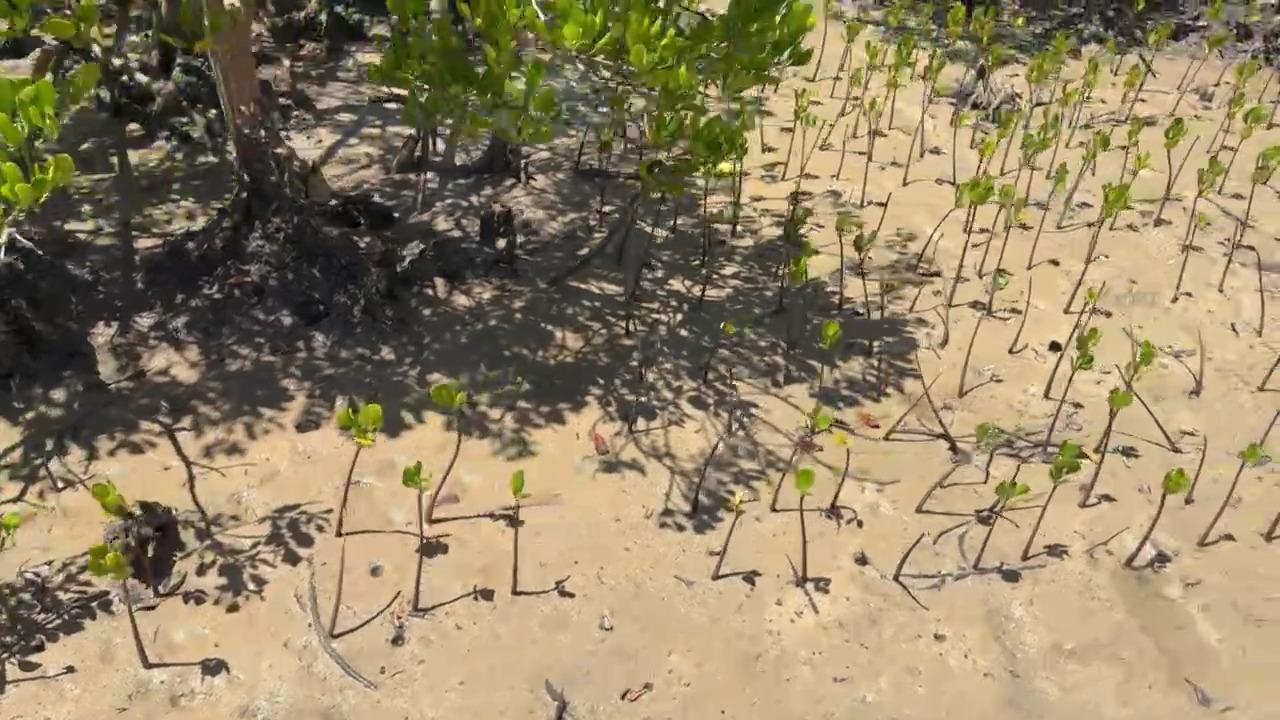Tree: (1065, 181, 1133, 313), (88, 481, 158, 597), (87, 542, 150, 670), (1198, 441, 1271, 546), (916, 421, 999, 513), (1023, 440, 1087, 558), (335, 400, 384, 539), (426, 381, 473, 523), (1123, 467, 1190, 565), (1046, 327, 1101, 446), (947, 172, 996, 304), (1095, 345, 1157, 448), (1113, 361, 1180, 453), (771, 410, 832, 511), (1079, 388, 1130, 506), (1045, 289, 1098, 399), (902, 81, 953, 186), (972, 479, 1031, 569), (987, 196, 1030, 318), (913, 182, 972, 270), (1058, 131, 1110, 230), (1172, 31, 1234, 113), (1123, 21, 1172, 124), (1205, 62, 1260, 153), (1217, 105, 1271, 197), (1027, 161, 1071, 263), (402, 459, 431, 610), (883, 370, 943, 442), (1176, 5, 1225, 91), (915, 353, 957, 453), (1237, 146, 1280, 242), (1182, 157, 1226, 247), (1154, 117, 1188, 225), (979, 185, 1018, 278), (822, 68, 866, 146), (711, 490, 749, 580), (781, 86, 816, 180), (876, 38, 911, 132), (1066, 58, 1103, 146), (1111, 150, 1151, 230), (508, 469, 534, 592), (1173, 213, 1209, 300), (829, 17, 868, 96), (964, 138, 996, 231), (918, 50, 946, 156), (1046, 89, 1078, 179), (910, 230, 945, 309), (858, 98, 883, 206), (852, 42, 880, 135), (776, 222, 806, 308), (795, 467, 817, 584), (691, 436, 724, 512), (837, 209, 862, 309), (861, 191, 894, 264), (1214, 92, 1249, 160), (983, 110, 1019, 175), (813, 0, 840, 82), (702, 323, 737, 384), (958, 314, 983, 399), (1015, 130, 1053, 185), (1024, 120, 1049, 203), (816, 318, 842, 397), (906, 3, 938, 67), (1123, 116, 1152, 185), (830, 431, 855, 510), (1009, 275, 1034, 353), (854, 227, 875, 318), (1047, 32, 1075, 100), (794, 110, 818, 188), (329, 538, 347, 637), (1000, 107, 1026, 174), (1170, 137, 1201, 193), (877, 5, 905, 63), (1080, 278, 1108, 335), (950, 109, 971, 184), (1185, 435, 1208, 503), (894, 534, 927, 580), (971, 1, 1005, 42), (1219, 224, 1240, 290), (699, 179, 714, 265), (886, 72, 907, 130), (731, 156, 746, 234), (1026, 61, 1045, 117), (1122, 65, 1146, 108), (1257, 250, 1267, 336), (945, 3, 967, 42), (1259, 352, 1280, 392), (835, 123, 850, 179), (1256, 70, 1278, 104), (1260, 412, 1280, 448), (1197, 330, 1206, 396), (1116, 40, 1132, 75), (1009, 15, 1027, 40), (1217, 61, 1234, 84), (1266, 512, 1280, 538), (760, 119, 769, 153)
